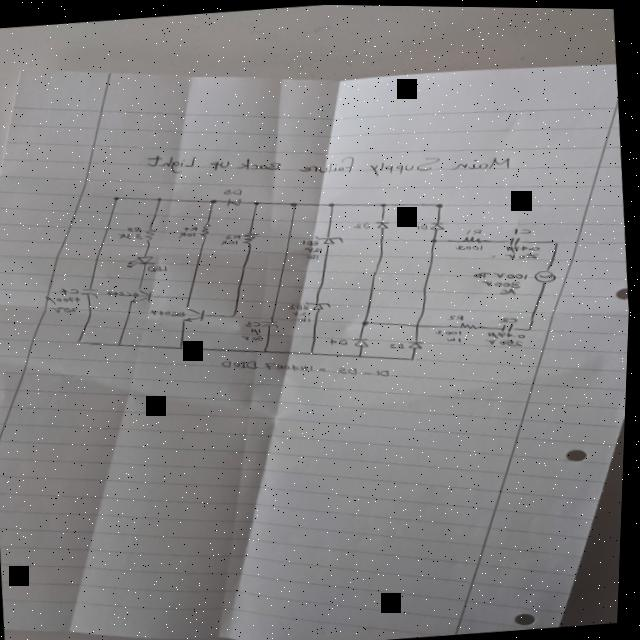capacitor: (80, 284, 103, 298), (497, 319, 519, 331), (260, 316, 282, 327), (505, 232, 525, 244)
crossover: (412, 320, 424, 326)
diode: (126, 252, 157, 267), (315, 230, 346, 244), (305, 297, 333, 309), (374, 215, 393, 228), (408, 336, 428, 348), (352, 334, 371, 346), (225, 194, 244, 206), (429, 218, 446, 228)
junction: (361, 317, 373, 324), (552, 235, 561, 243), (289, 199, 299, 206), (76, 336, 84, 343), (436, 200, 445, 206), (430, 235, 439, 241), (230, 310, 239, 316), (154, 194, 164, 199), (113, 194, 123, 199), (408, 353, 418, 358), (210, 196, 218, 202), (327, 199, 336, 204), (178, 343, 187, 348), (262, 347, 271, 352), (356, 351, 365, 356), (379, 200, 388, 205), (186, 293, 195, 298), (253, 199, 261, 204), (117, 340, 125, 345), (309, 348, 317, 353), (527, 324, 535, 329)
resistor: (241, 227, 261, 245), (459, 231, 491, 242), (459, 317, 488, 328), (199, 219, 214, 237), (143, 226, 158, 243)
source: (534, 265, 559, 282)
text: (144, 121, 513, 198), (222, 344, 393, 389), (473, 264, 531, 281), (481, 274, 524, 288), (45, 291, 84, 305), (485, 333, 526, 346), (487, 326, 529, 338), (150, 305, 188, 317), (506, 240, 542, 252), (107, 286, 141, 297), (506, 248, 540, 258), (50, 303, 80, 313), (454, 240, 485, 249), (117, 229, 144, 239), (435, 325, 465, 334), (148, 261, 170, 272), (242, 331, 266, 341), (60, 284, 81, 295), (512, 223, 534, 233), (446, 310, 467, 320), (499, 312, 520, 322), (330, 334, 351, 344), (499, 283, 518, 294), (289, 300, 311, 309), (223, 186, 244, 194), (466, 224, 484, 233), (305, 243, 325, 251), (178, 229, 197, 237), (447, 333, 465, 341), (390, 339, 408, 347), (294, 307, 312, 315), (354, 219, 372, 227), (302, 236, 320, 244), (221, 236, 239, 244), (127, 224, 144, 232), (251, 325, 264, 334), (246, 318, 262, 325), (299, 314, 313, 321), (183, 224, 199, 230), (417, 220, 429, 228), (226, 231, 242, 237), (307, 251, 320, 258)
transistor: (181, 301, 209, 322), (130, 285, 156, 302)
